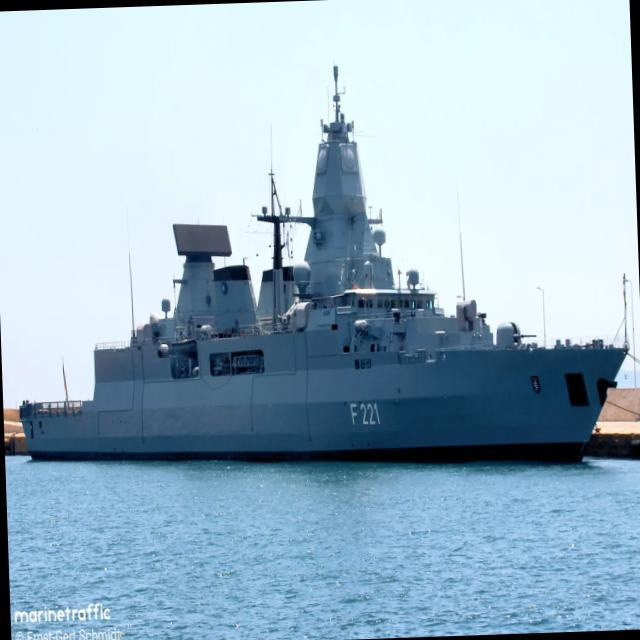Military: (20, 65, 628, 461)
